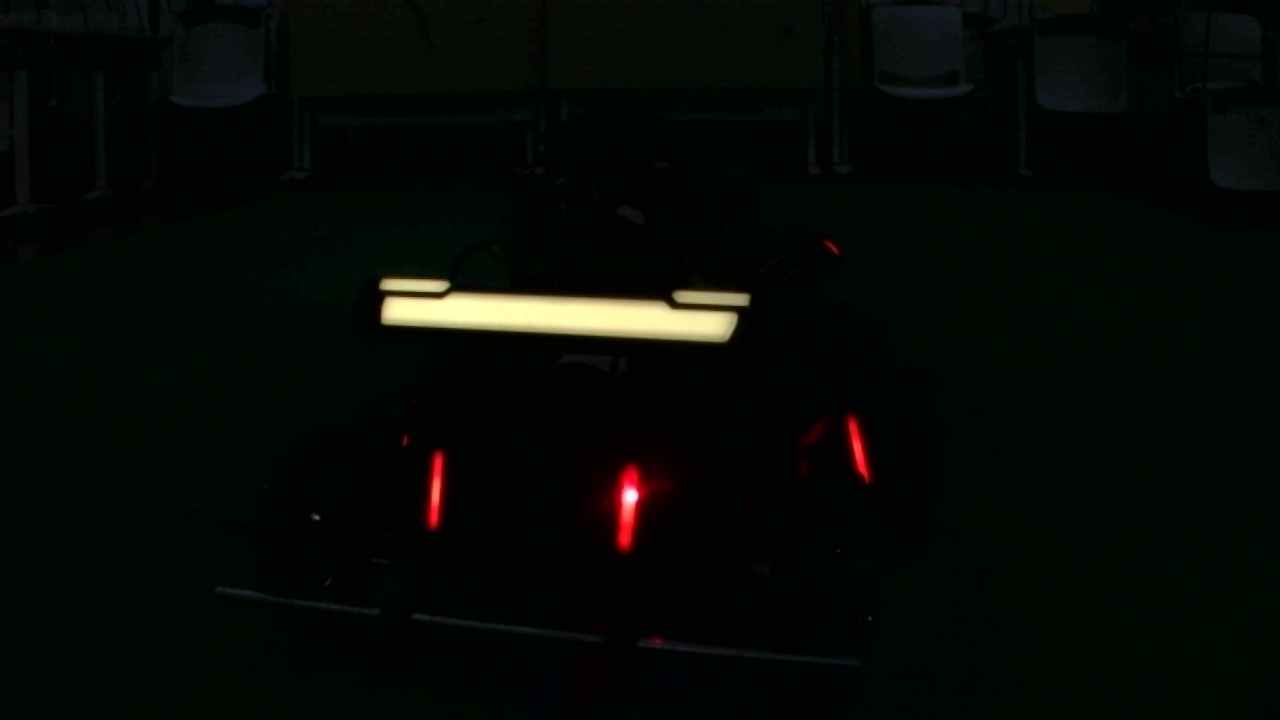lamp: (608, 454, 645, 555), (844, 404, 870, 496), (425, 446, 445, 533)
notpair1: (611, 414, 875, 557)
pair1: (425, 452, 642, 552)
